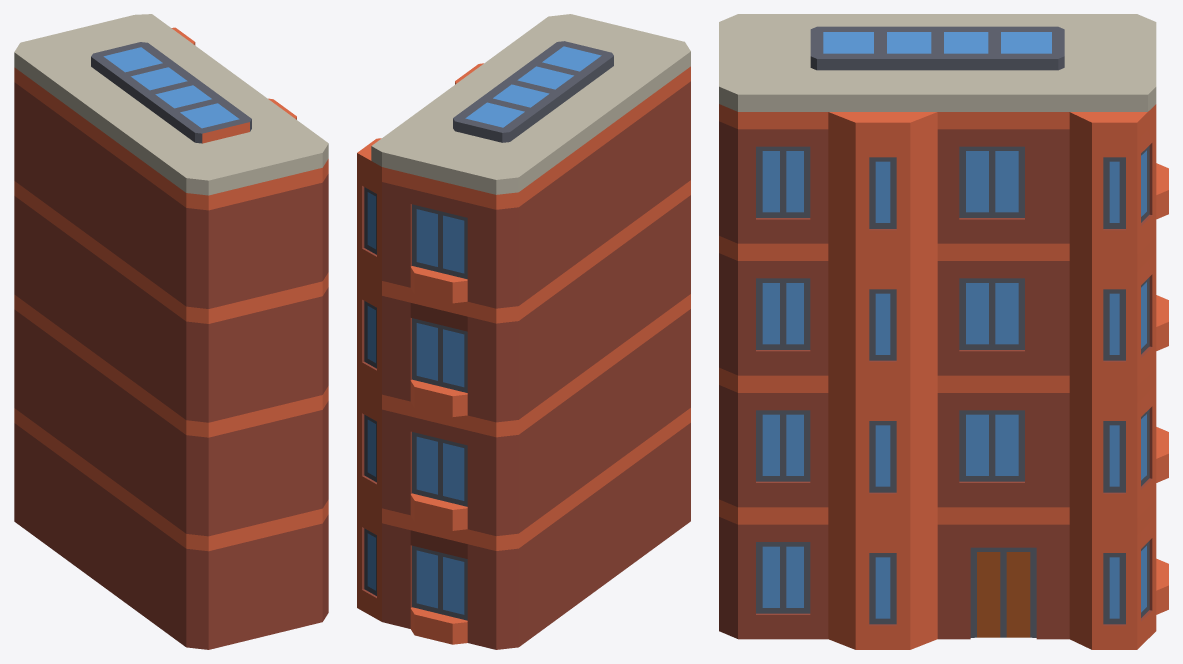
3 renders of one model, left to right at view 1: azimuth 30°, elevation 25°; view 2: azimuth 150°, elevation 25°; view 3: azimuth 270°, elevation 25°, orthographic. The views are drawn at different scales.
Parts seen in each view (by area): view 1: predio 5; view 2: predio 5; view 3: predio 5.
Boxes of the visible parts, x1=… form: predio 5: x1=14, y1=14, x2=328, y2=649; predio 5: x1=357, y1=14, x2=690, y2=649; predio 5: x1=719, y1=14, x2=1168, y2=649.
Bounding box in the file's own units: 3400 × 9643 × 7071.
